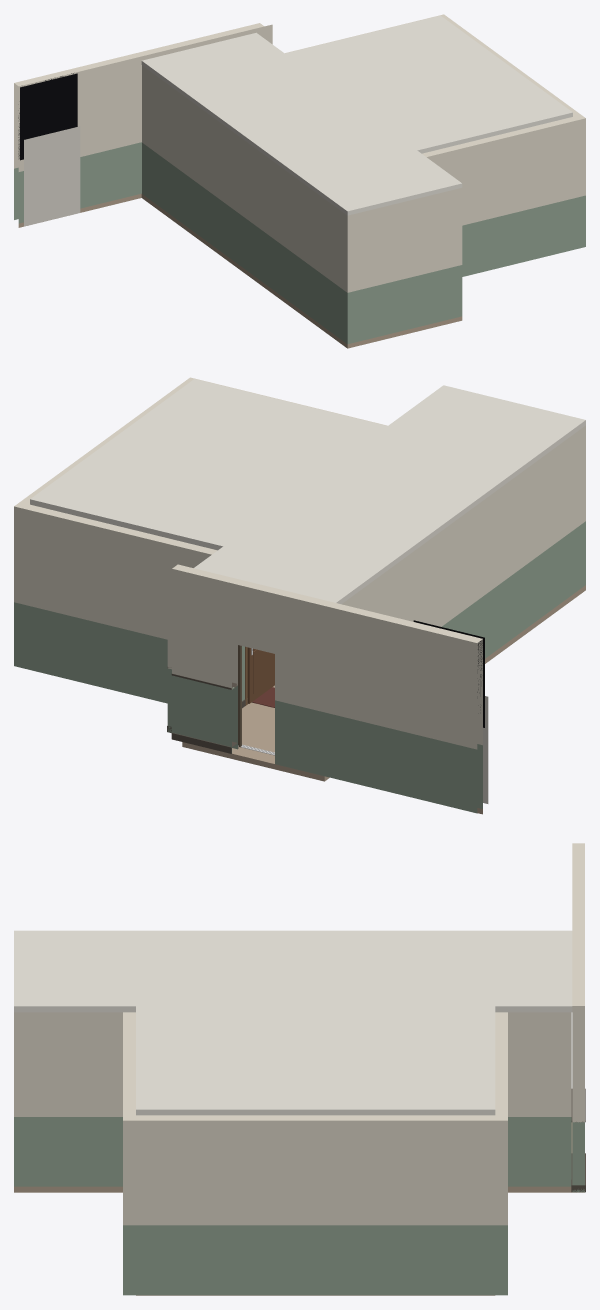
The model's file is Kat3.fbx.
3 views of the same model, one above another, from view 1: azimuth 30°, elevation 25°; view 2: azimuth 150°, elevation 25°; view 3: azimuth 270°, elevation 25° (orthographic). The views are drawn at different scales.
Visible parts, largest first — view 1: Kat3Koridor, Kat3Sinif; view 2: Kat3Koridor, Kat3Sinif; view 3: Kat3Sinif, Kat3Koridor.
Part boxes in pixels (x1=…): Kat3Koridor: x1=14, y1=23, x2=462, y2=348; Kat3Sinif: x1=285, y1=14, x2=585, y2=276; Kat3Koridor: x1=167, y1=385, x2=585, y2=814; Kat3Sinif: x1=14, y1=377, x2=387, y2=703; Kat3Sinif: x1=123, y1=1006, x2=507, y2=1295; Kat3Koridor: x1=14, y1=843, x2=585, y2=1192.
Bounding box in the file's own units: 9.8 × 3.3 × 8.92.
